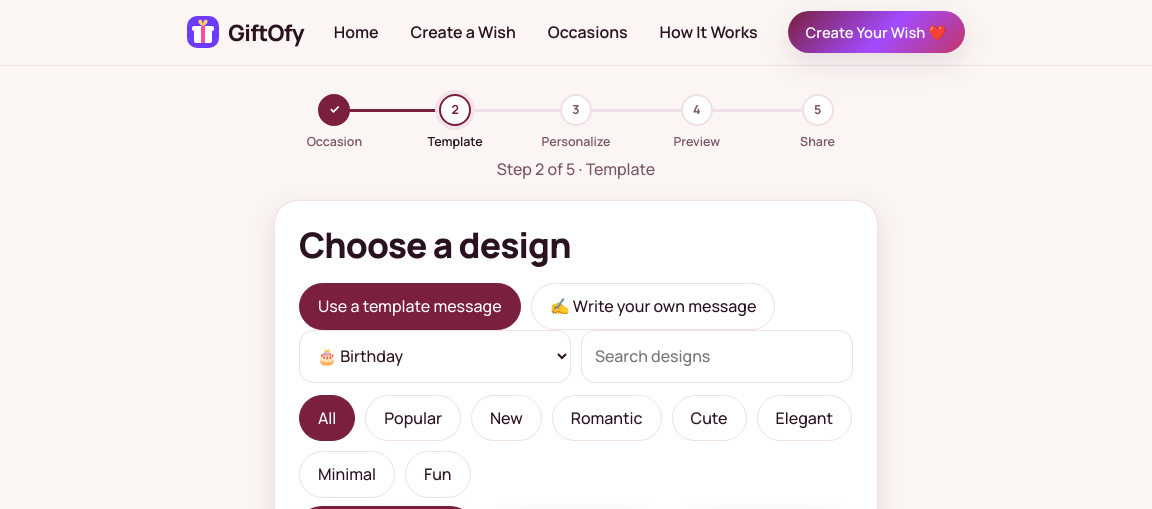
Scenario: create wish: templates and custom message › an empty message is blocked with a clear error
This screenshot has width=1152, height=509.
Click the button "✍️ Write your own message". click: (653, 306)
box: [531,283,775,330]
(page scrolled)
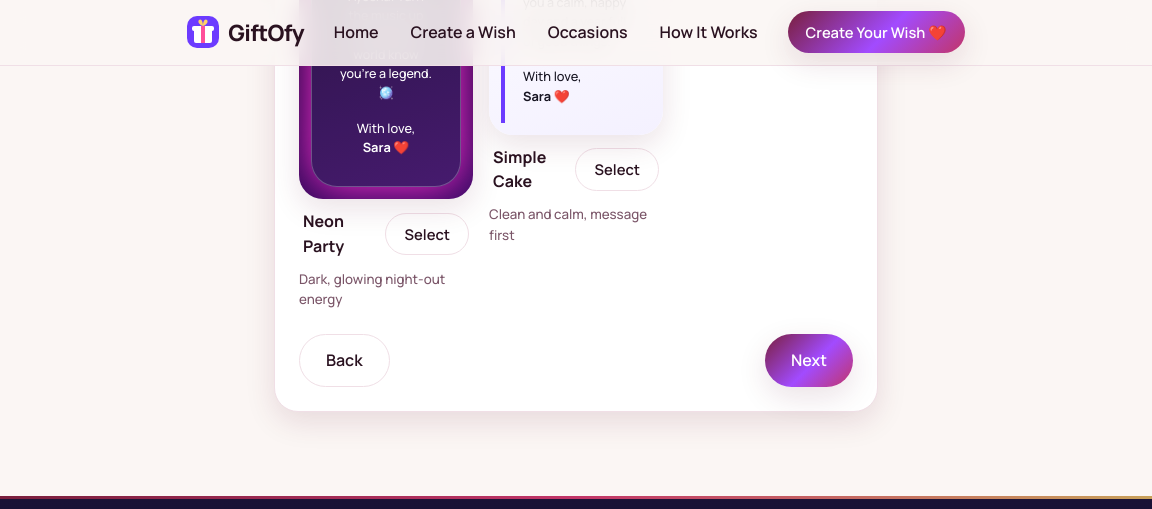
Click the button "Next". click: (809, 360)
box: [765,334,853,387]
(page scrolled)
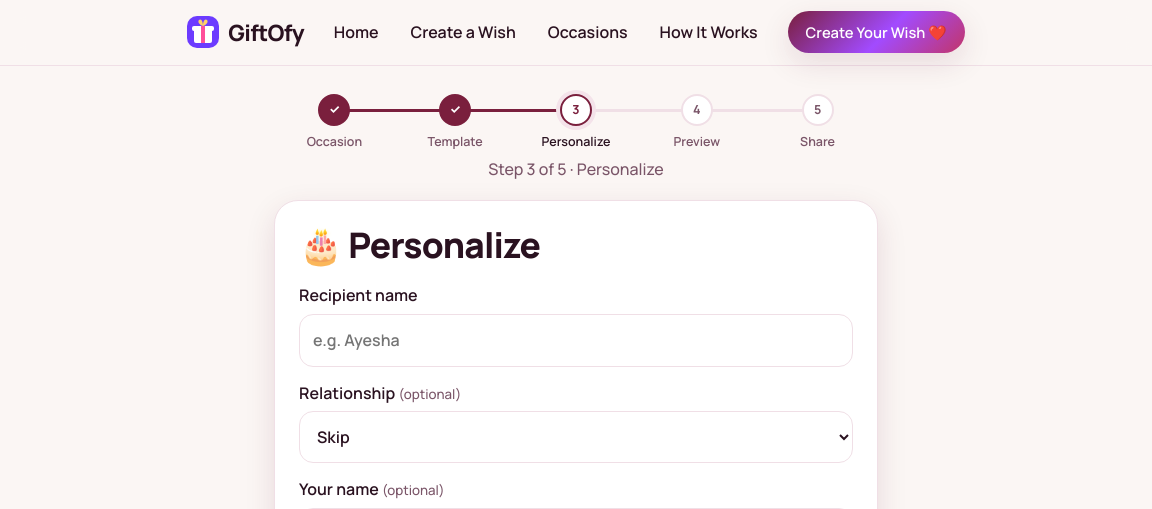
Type "Sara" into the field labelled "Recipient name". click: (576, 340)
box: [299,314,853,367]
(page scrolled)
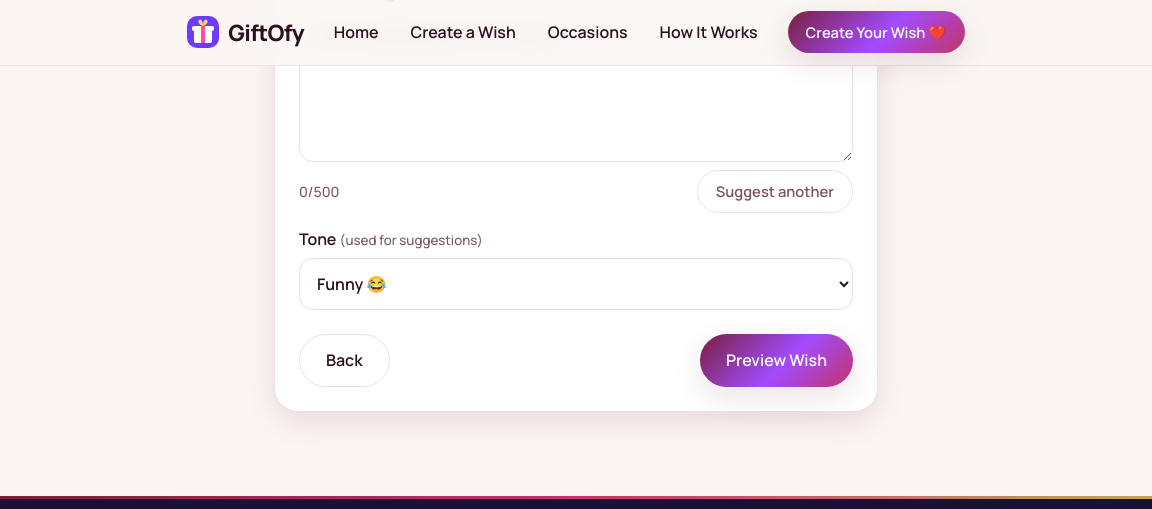
Click the button "Preview Wish". click: (777, 360)
box: [700,334,853,387]
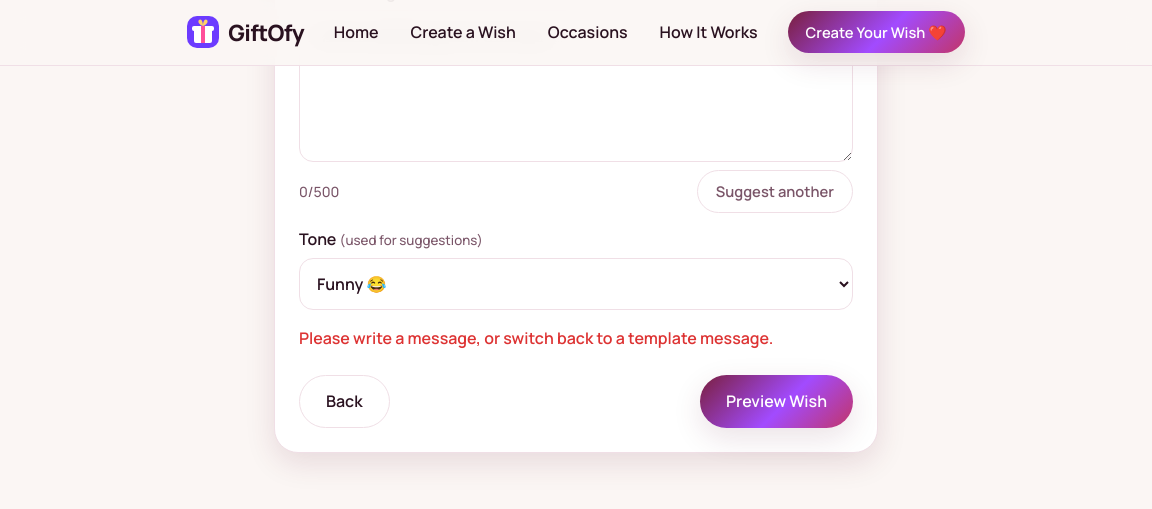
Expected: the message "Please write a message, or switch back to a template message." is shown, [299,326,853,351]
